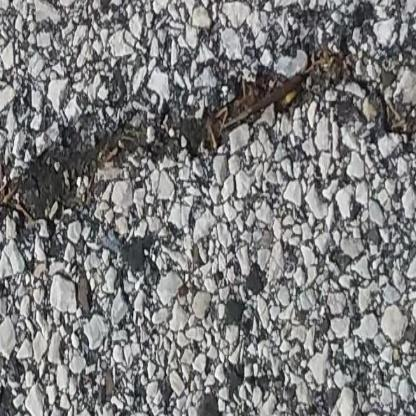Cracks: (0, 28, 416, 215)
